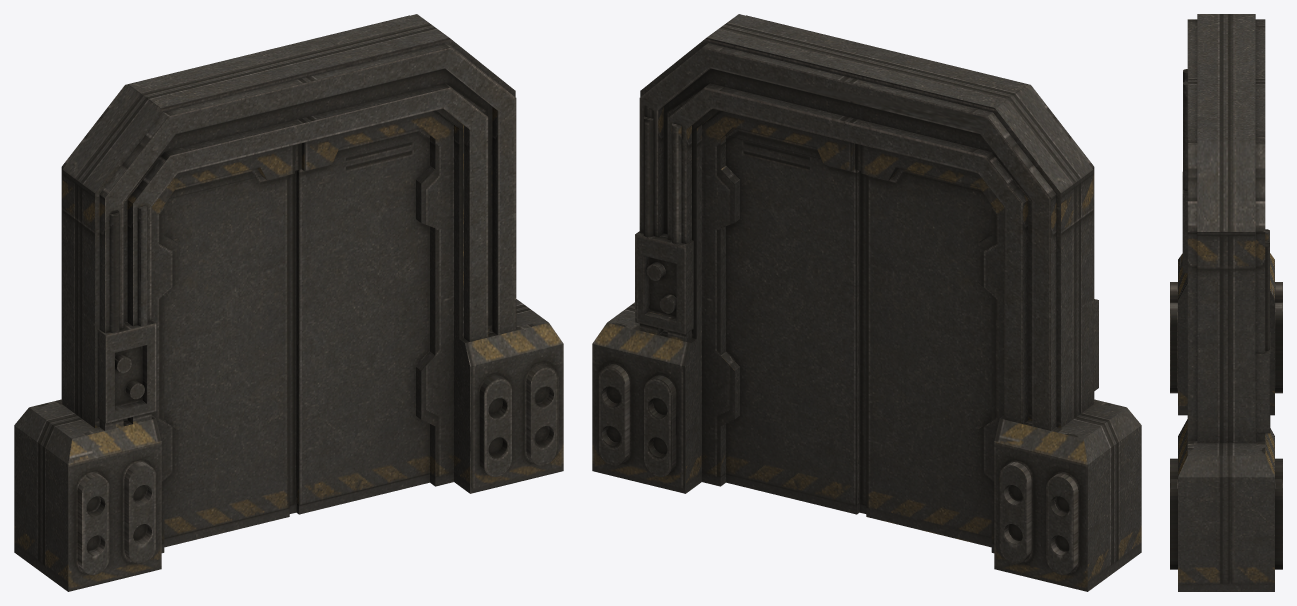
Rendered from Door Closed V2.fbx.
3 renders of one model, left to right at view 1: azimuth 30°, elevation 25°; view 2: azimuth 150°, elevation 25°; view 3: azimuth 270°, elevation 25°, orthographic. The views are drawn at different scales.
Visible parts, largest first — view 1: Door; view 2: Door; view 3: Door.
Part boxes in pixels (x1=…): Door: x1=14, y1=14, x2=563, y2=591; Door: x1=592, y1=14, x2=1141, y2=591; Door: x1=1170, y1=14, x2=1282, y2=591.
Bounding box in the file's own units: 2 × 0.4377 × 1.74.
1 material, 1 textured.
